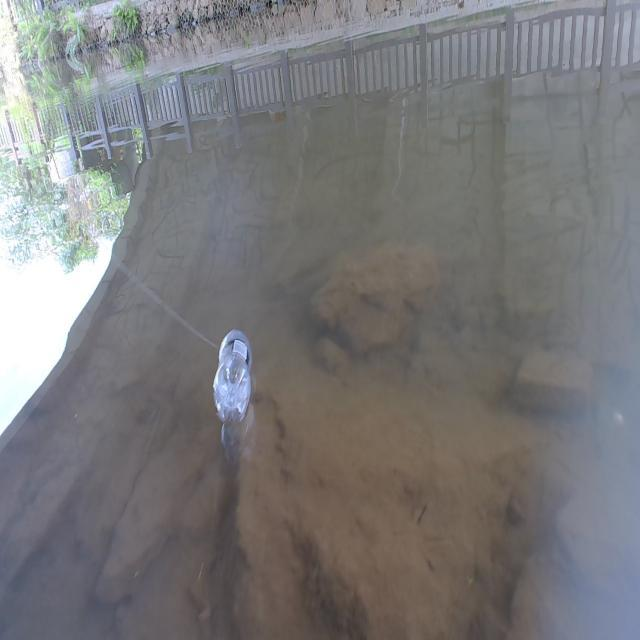bottle: (195, 289, 272, 471)
